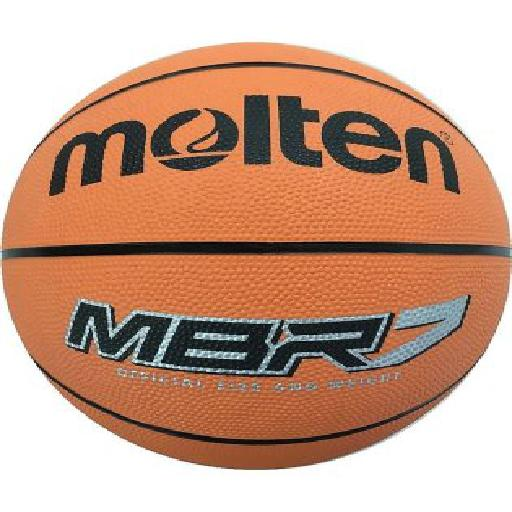ball: (1, 42, 512, 471)
